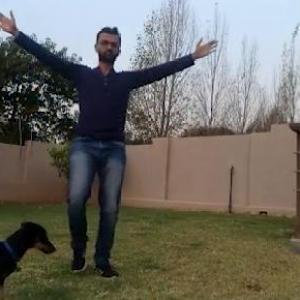takeoff: (0, 5, 225, 283)
